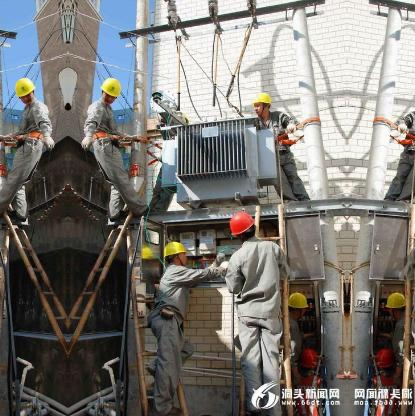Safety Helmet: (223, 208, 262, 255), (158, 235, 188, 272), (282, 289, 313, 320), (10, 75, 40, 106), (246, 90, 278, 119), (384, 290, 413, 319), (98, 73, 121, 106)
